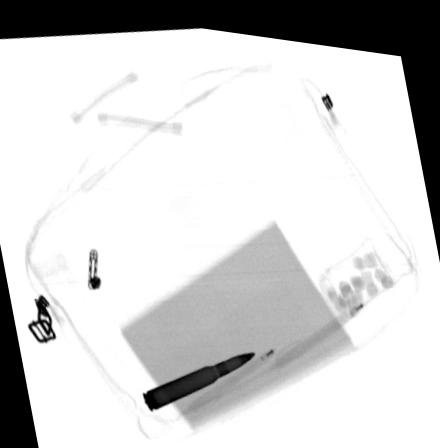Bullet: (142, 345, 256, 407)
